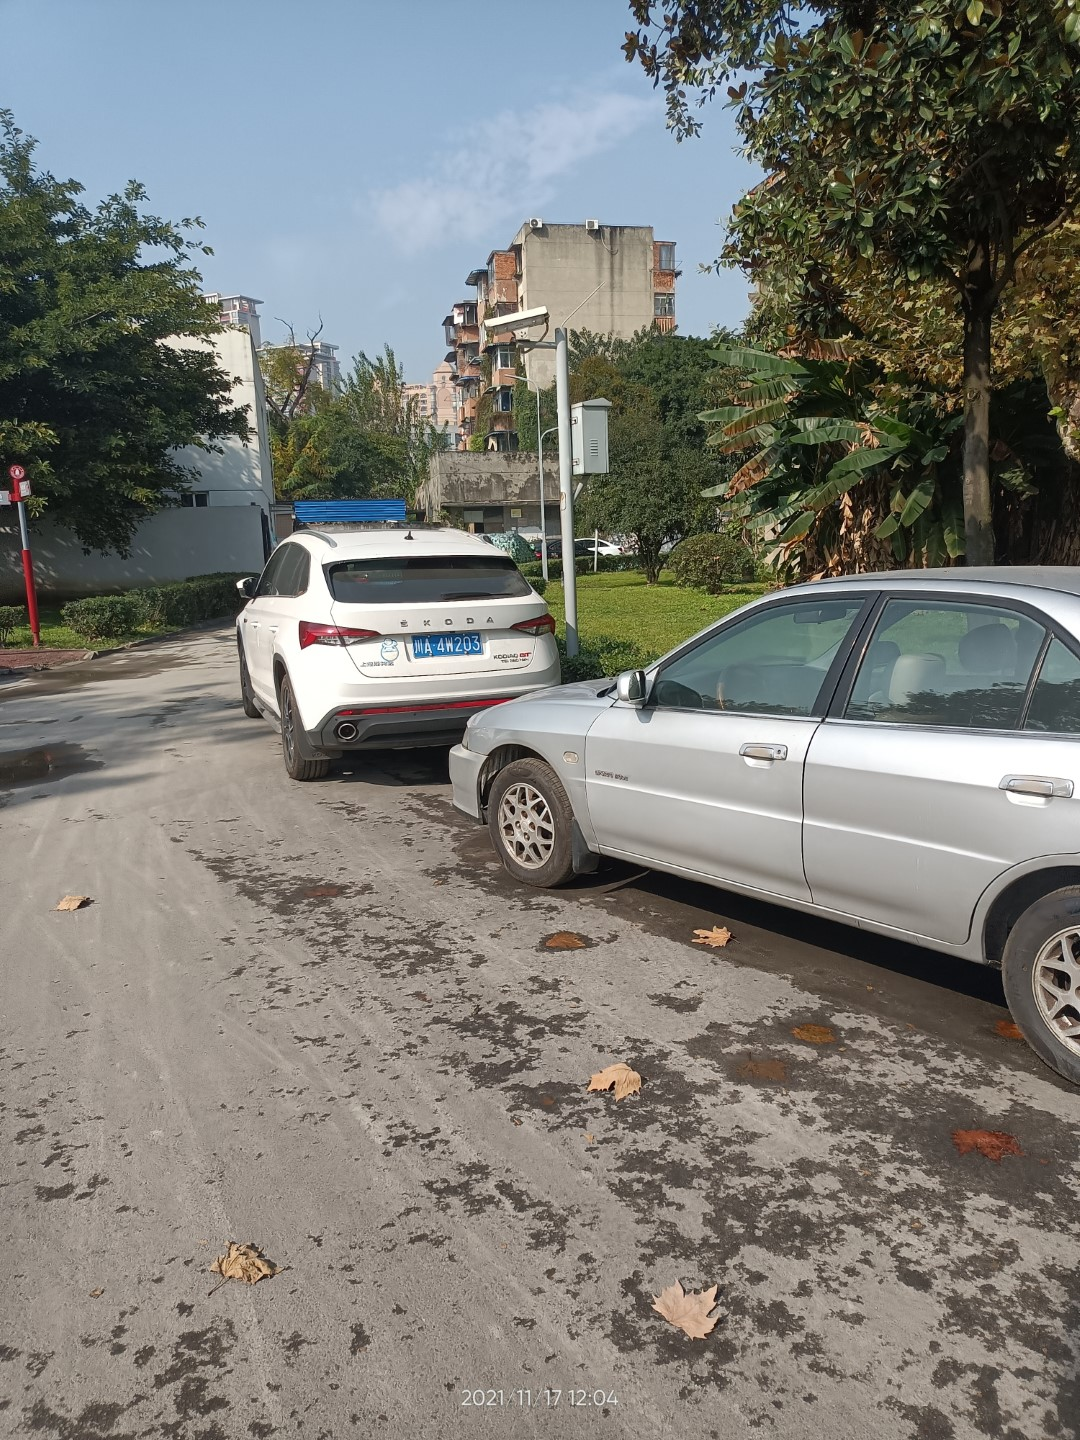plate: (411, 632, 482, 658)
